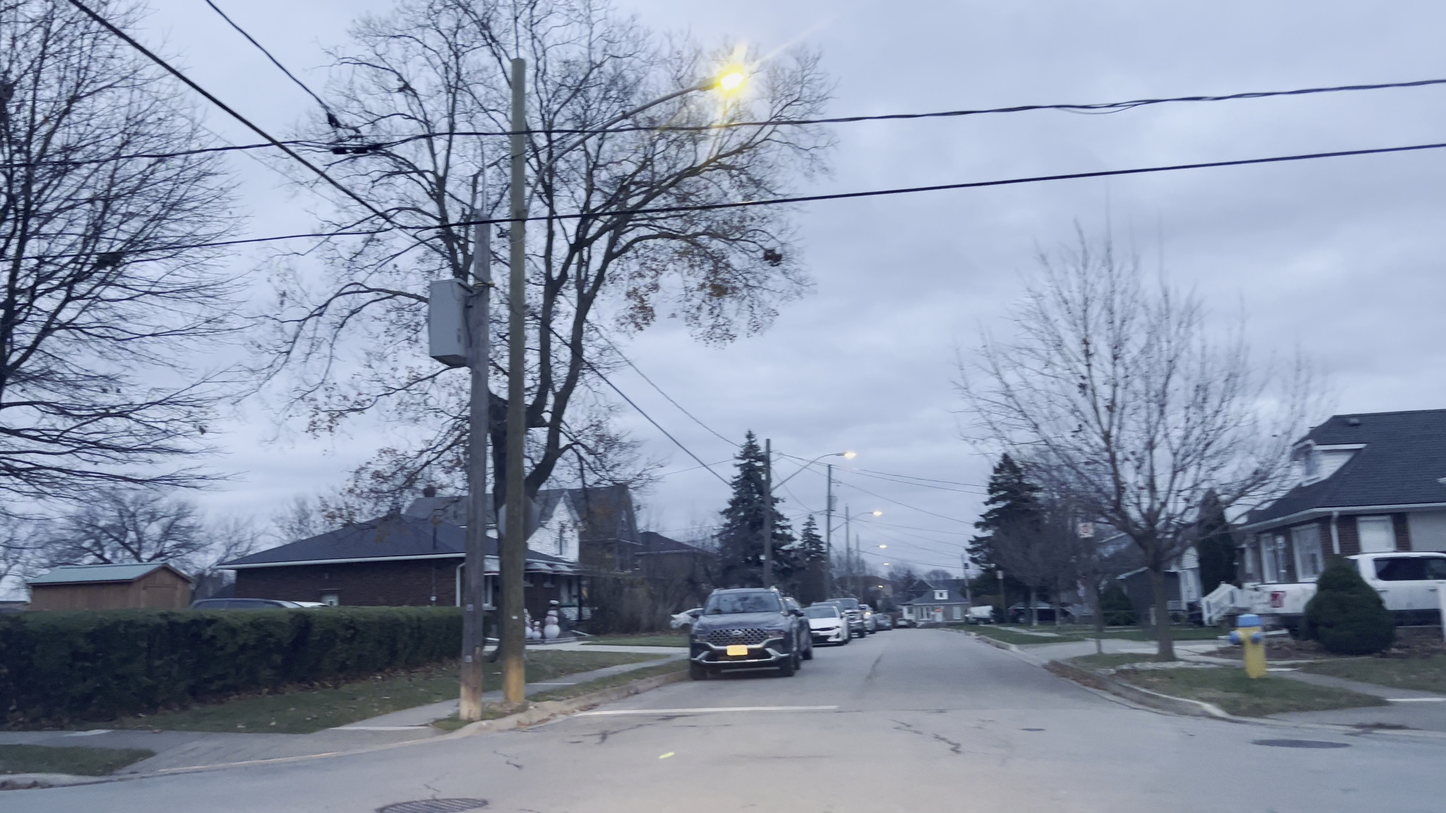cracks: (548, 709, 694, 752), (889, 717, 978, 760)
